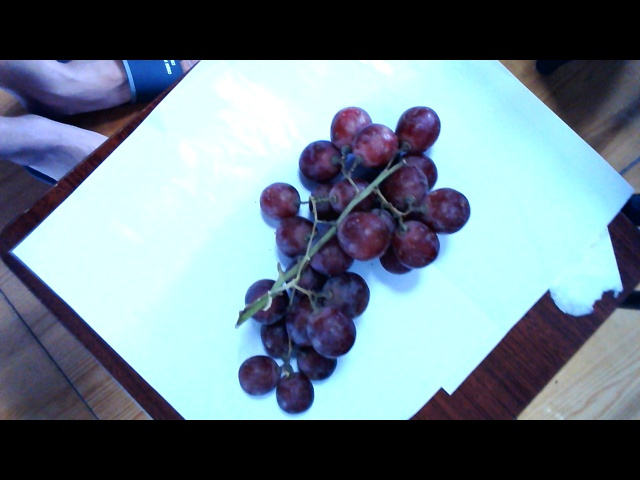grape: (228, 100, 452, 412)
